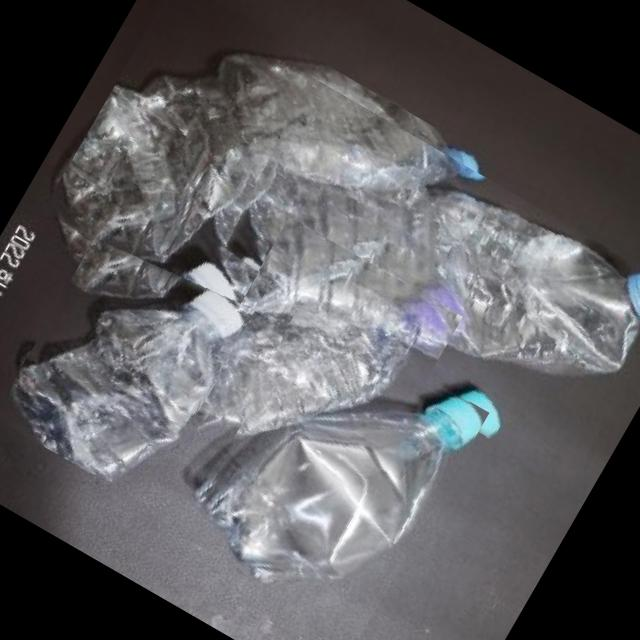plastic bottle: (25, 0, 489, 420), (187, 74, 640, 494), (168, 303, 488, 638), (172, 217, 461, 518), (0, 223, 254, 504)
